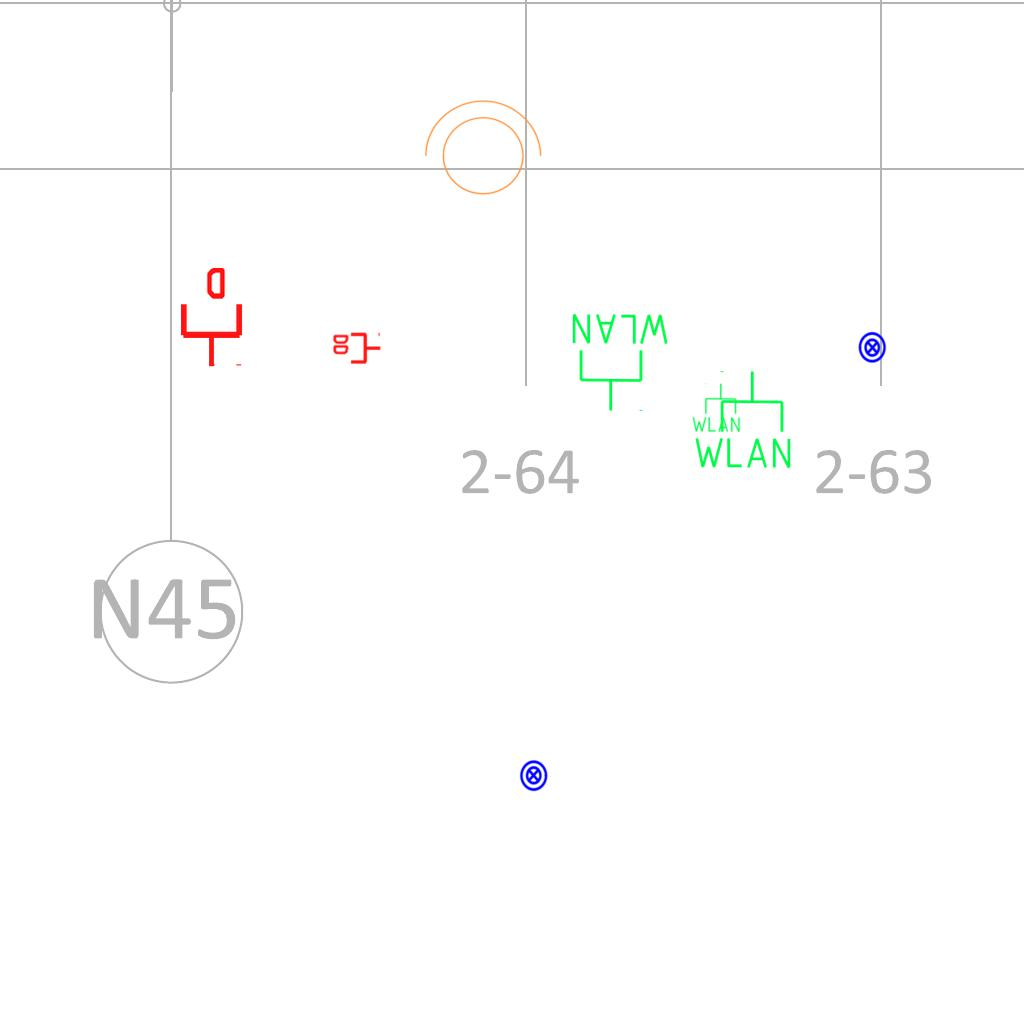Datenanschluss_einfach: (177, 268, 246, 368)
Datenanschluss_zweifach: (331, 332, 382, 366)
Scheinwerfer_fuer_Alarmbeleuchtung: (414, 95, 546, 207)
Taster_beleuchtet: (517, 759, 550, 792), (856, 331, 889, 364)
WLAN: (690, 368, 795, 472), (568, 310, 673, 414), (690, 382, 742, 434)
